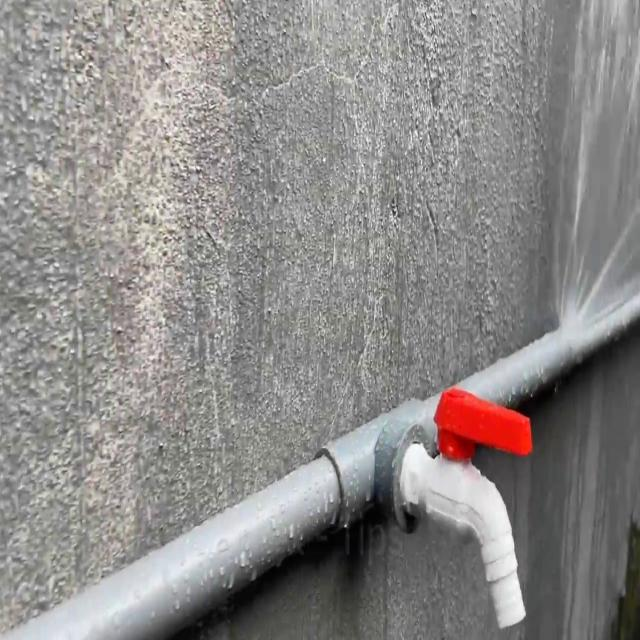leak: (549, 0, 640, 337)
